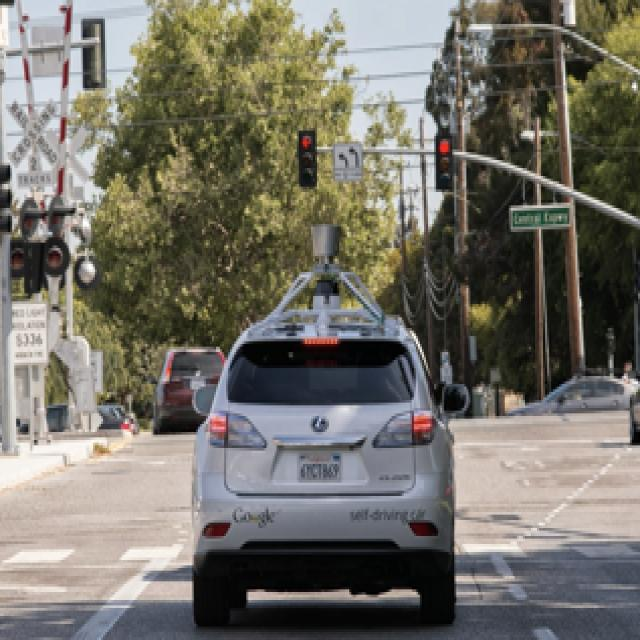license_plate: (299, 459, 343, 485)
